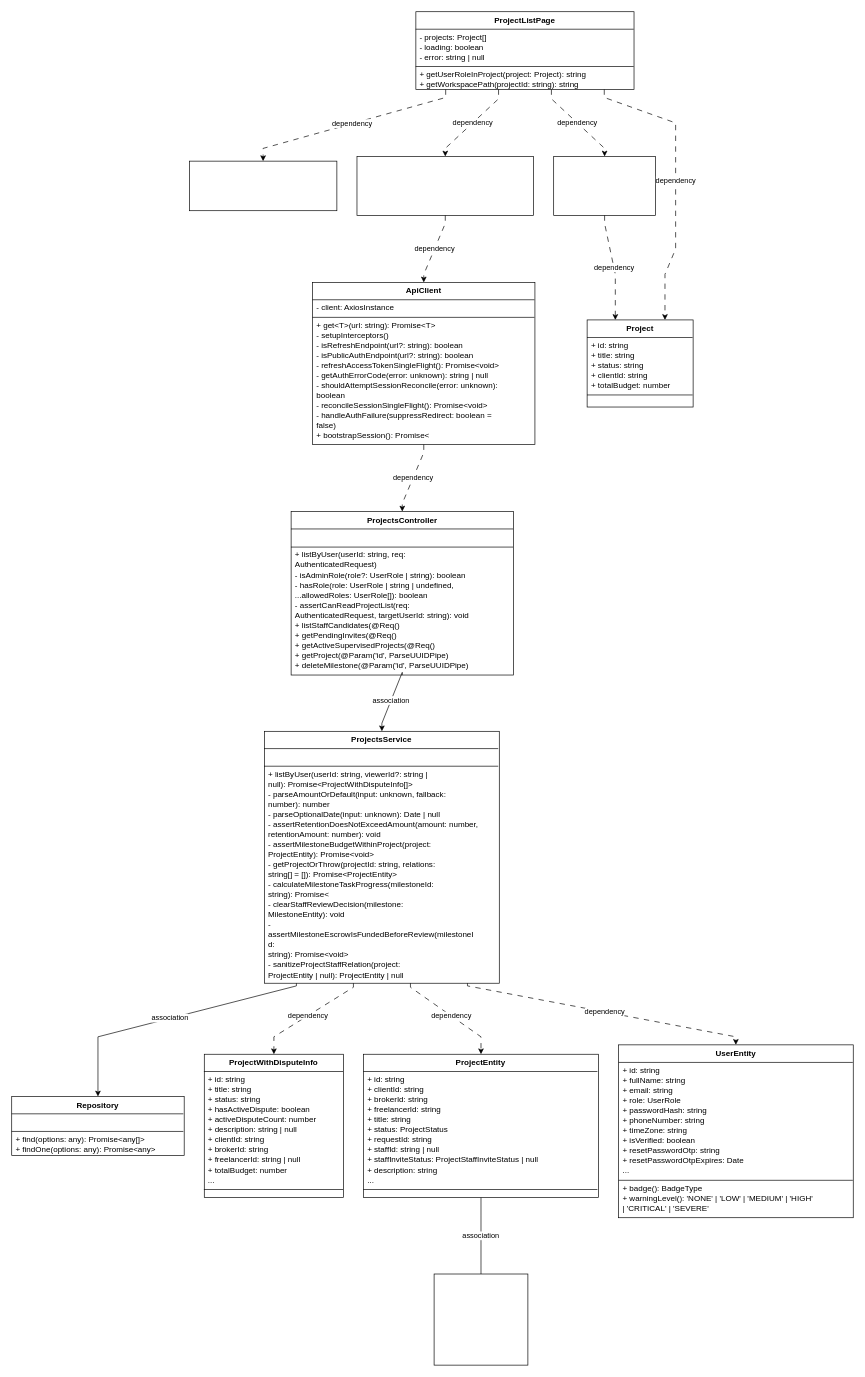
This 865x1377 diagram has some shape labels left out. The centre of each missing label's shape, as x and y in pixels:
"fetchProjectsByUser + fetchProjectsByUser(userId: string): Promise<Project[]>" goes at (x=445, y=185).
"ProjectCard - project: Project - userRole: string + onNavigate(): void" goes at (x=604, y=185).
"ProjectStatus PLANNING IN_PROGRESS TESTING COMPLETED PAID DISPUTED CANCELED" goes at (x=480, y=1319).
"useCurrentUser + useCurrentUser<T>(): T | null" goes at (x=263, y=185).
